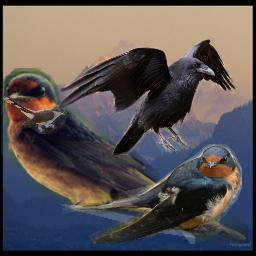Crow: (57, 38, 237, 155)
Cuckoo: (2, 93, 67, 134)
Swallow: (1, 68, 248, 244), (62, 144, 242, 244)
